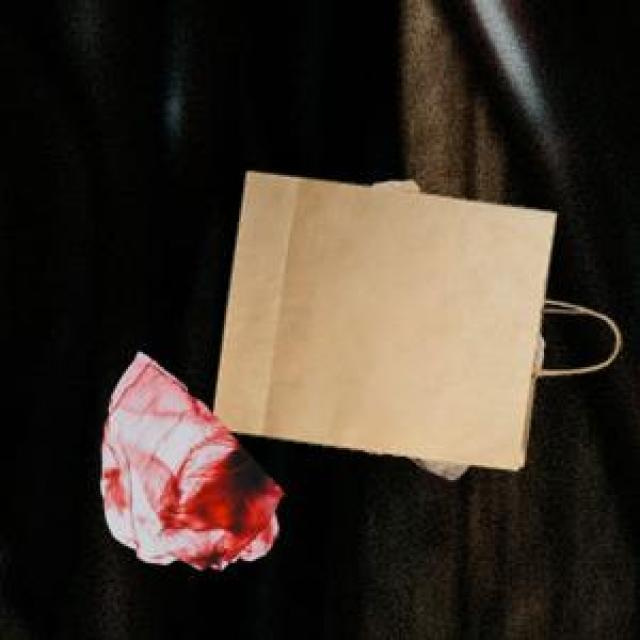paper: (209, 169, 595, 465), (367, 177, 540, 476)
